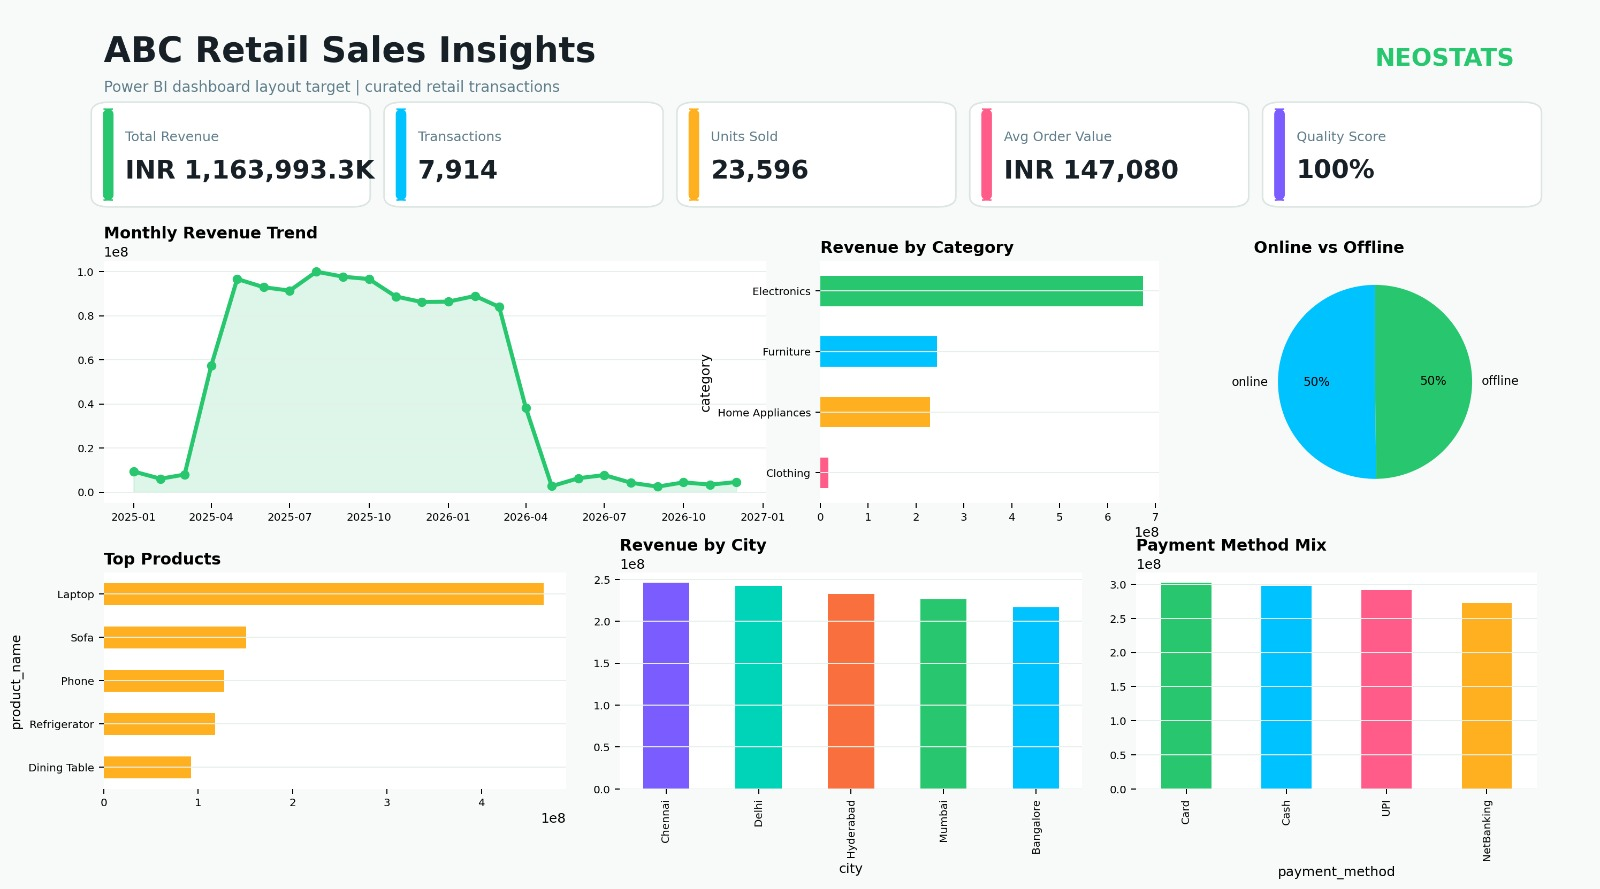

The dashboard page shown, as its layout file describes it:
{"tool":"powerbi","page":{"name":"Page 1","canvas":[1280,720],"ordinal":0},"visuals":[{"type":"cardVisual","fields":{"Data":["clean_data (2).Total Revenue"]},"box":[42.1,81.4,231.6,113.7],"z":0},{"type":"cardVisual","fields":{"Data":["clean_data (2).Total Transactions"]},"box":[292,81.4,247.1,113.7],"z":1000},{"type":"cardVisual","fields":{"Data":["clean_data (2).Units Sold"]},"box":[550.3,81.4,231.6,113.7],"z":2000},{"type":"cardVisual","fields":{"Data":["clean_data (2).Average Order Value"]},"box":[791.8,81.4,227.4,113.7],"z":3000},{"type":"cardVisual","fields":{"Data":["clean_data (2).Data Quality Score"]},"box":[1031.8,81.4,216.2,113.7],"z":4000},{"type":"textbox","box":[42.1,0,1201.7,74.4],"z":5000},{"type":"lineChart","title":"Monthly Revenue Trend","fields":{"Category":["clean_data (2).transaction_month.Variation.Date Hierarchy.Month"],"Y":["clean_data (2).Total Revenue"]},"box":[42.2,219.6,249.7,242.5],"z":6000},{"type":"clusteredBarChart","title":"Revenue by Category","fields":{"Category":["clean_data (2).category"],"Y":["clean_data (2).Total Revenue"]},"box":[329,219.3,279.5,239.4],"z":6001},{"type":"pieChart","title":"Online vs Offline","fields":{"Category":["clean_data (2).purchase_location"],"Y":["clean_data (2).Total Revenue"]},"box":[631.7,216.2,279.5,242.5],"z":6002},{"type":"clusteredBarChart","title":"Top Products","fields":{"Category":["clean_data (2).product_name"],"Y":["clean_data (2).Total Revenue"]},"box":[946.2,216.2,301.8,241.5],"z":6003},{"type":"clusteredColumnChart","title":"Revenue by City","fields":{"Category":["clean_data (2).city"],"Y":["clean_data (2).Total Revenue"]},"box":[42.2,486.2,259.4,218.4],"z":6004},{"type":"clusteredColumnChart","title":"Payment Method Mix","fields":{"Category":["clean_data (2).payment_method"],"Y":["clean_data (2).Total Revenue"]},"box":[313.5,481.9,295,222.4],"z":6005},{"type":"slicer","fields":{"Values":["clean_data (2).category"]},"box":[632.2,518.8,131.5,166.5],"z":6006},{"type":"slicer","fields":{"Values":["clean_data (2).city"]},"box":[791.4,518.8,138.7,166.5],"z":6007},{"type":"slicer","fields":{"Values":["clean_data (2).purchase_location","clean_data (2).payment_method"]},"box":[962.2,481.9,285.7,97.3],"z":6008},{"type":"slicer","fields":{"Values":["clean_data (2).transaction_month"]},"box":[961.6,596.6,286.4,88.4],"z":6009}]}

Visuals, with their boxes in screenshot pixels (x1, y1, x2, y2), scaled from the page's 1280x720 canvas onto the 1600x889 screenshot:
cardVisual - clean_data (2).Total Revenue: {"x1": 53, "y1": 101, "x2": 342, "y2": 241}
cardVisual - clean_data (2).Total Transactions: {"x1": 365, "y1": 101, "x2": 674, "y2": 241}
cardVisual - clean_data (2).Units Sold: {"x1": 688, "y1": 101, "x2": 977, "y2": 241}
cardVisual - clean_data (2).Average Order Value: {"x1": 990, "y1": 101, "x2": 1274, "y2": 241}
cardVisual - clean_data (2).Data Quality Score: {"x1": 1290, "y1": 101, "x2": 1560, "y2": 241}
textbox: {"x1": 53, "y1": 0, "x2": 1555, "y2": 92}
"Monthly Revenue Trend" lineChart: {"x1": 53, "y1": 271, "x2": 365, "y2": 571}
"Revenue by Category" clusteredBarChart: {"x1": 411, "y1": 271, "x2": 761, "y2": 566}
"Online vs Offline" pieChart: {"x1": 790, "y1": 267, "x2": 1139, "y2": 566}
"Top Products" clusteredBarChart: {"x1": 1183, "y1": 267, "x2": 1560, "y2": 565}
"Revenue by City" clusteredColumnChart: {"x1": 53, "y1": 600, "x2": 377, "y2": 870}
"Payment Method Mix" clusteredColumnChart: {"x1": 392, "y1": 595, "x2": 761, "y2": 870}
slicer - clean_data (2).category: {"x1": 790, "y1": 641, "x2": 955, "y2": 846}
slicer - clean_data (2).city: {"x1": 989, "y1": 641, "x2": 1163, "y2": 846}
slicer - clean_data (2).purchase_location x clean_data (2).payment_method: {"x1": 1203, "y1": 595, "x2": 1560, "y2": 715}
slicer - clean_data (2).transaction_month: {"x1": 1202, "y1": 737, "x2": 1560, "y2": 846}
